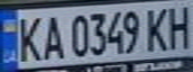0: (66, 10, 90, 58)
3: (87, 9, 109, 56)
4: (106, 7, 127, 55)
9: (121, 7, 145, 54)
A: (39, 11, 66, 61)
H: (163, 2, 193, 50)
K: (9, 12, 45, 63), (142, 4, 172, 52)
